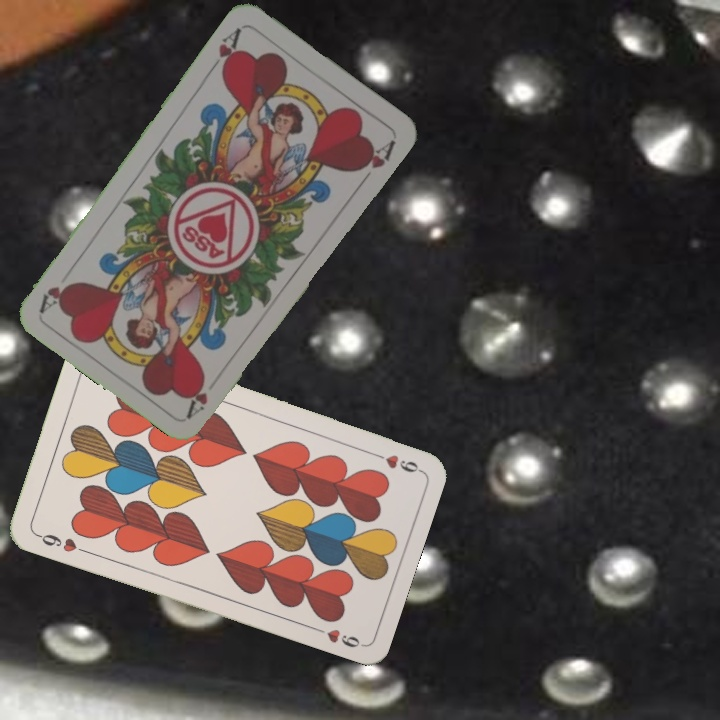H9: (365, 447, 422, 475), (31, 529, 89, 556)
HA: (205, 23, 245, 78), (183, 372, 210, 420)
